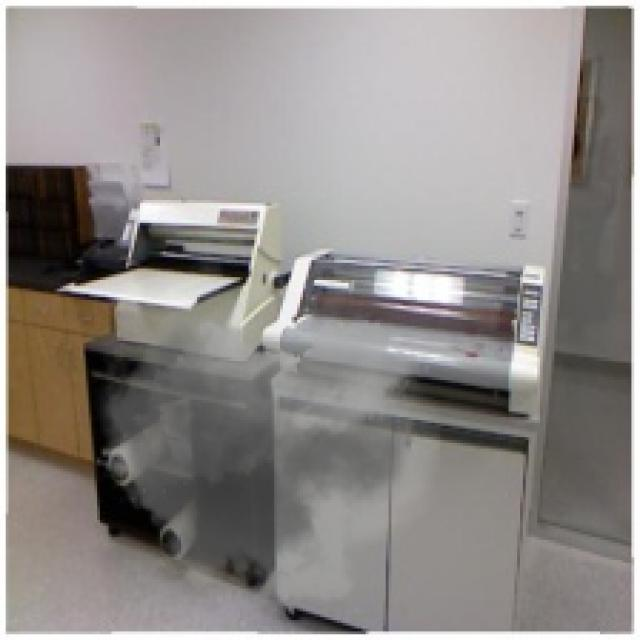smoke: (83, 246, 443, 620)
